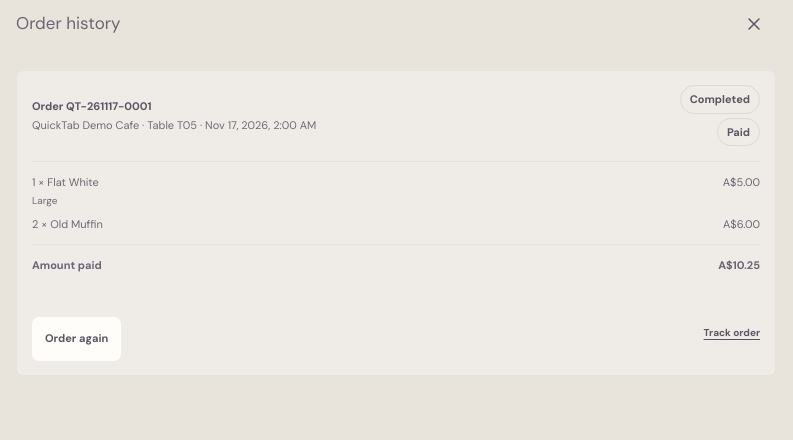
it: OrdersScreen reorder › leaves the cart untouched and explains when nothing is available
Expected: the text "Order QT-261117-0001" is shown, left=32, top=98, right=152, bottom=112
What coordinates should you click on to do the following:
click the button "Order again"
I would click on:
 (77, 338)
Its box is left=32, top=316, right=121, bottom=360.
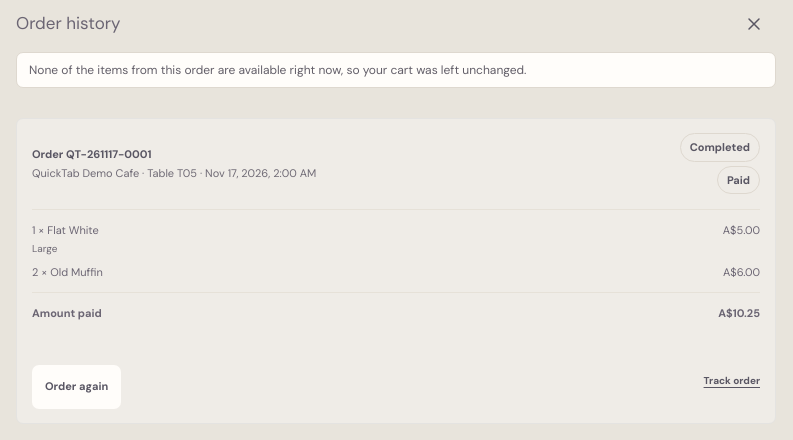
Expected: the text "None of the items from this order are available" is shown, left=29, top=62, right=526, bottom=78
